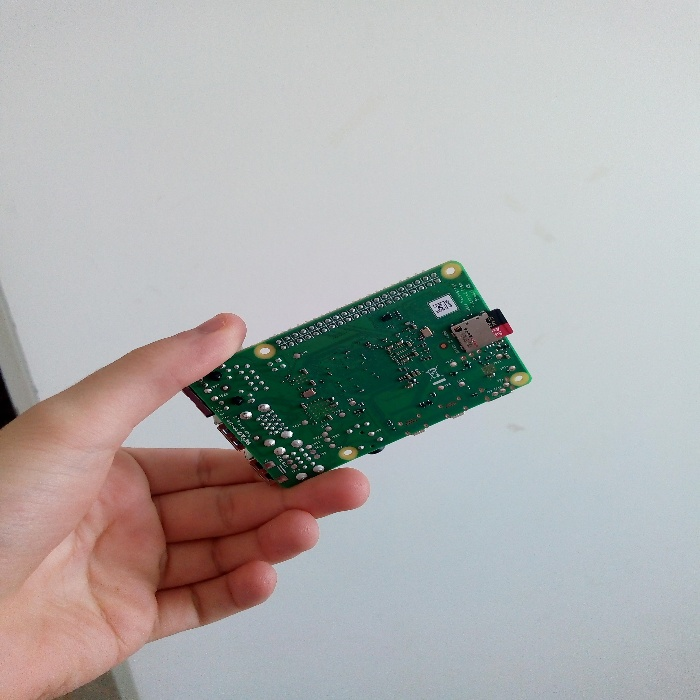raspberry: (176, 258, 550, 477)
